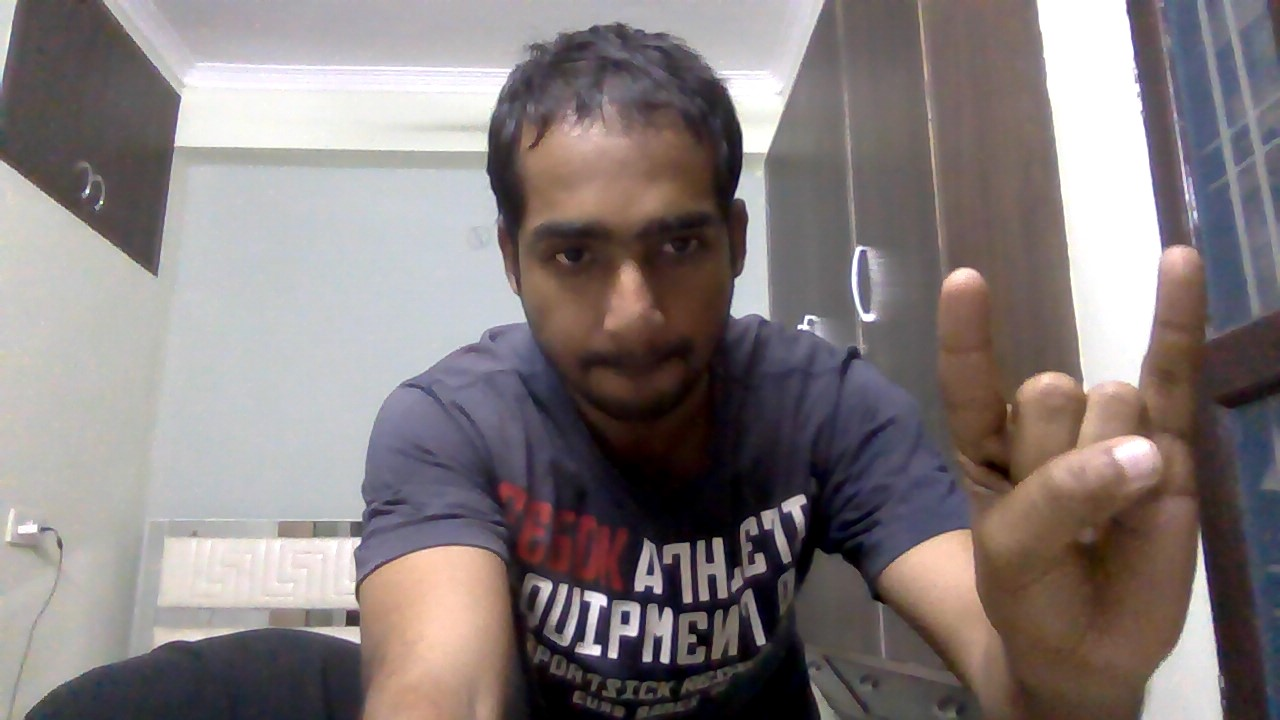Select All: (922, 242, 1242, 690)
